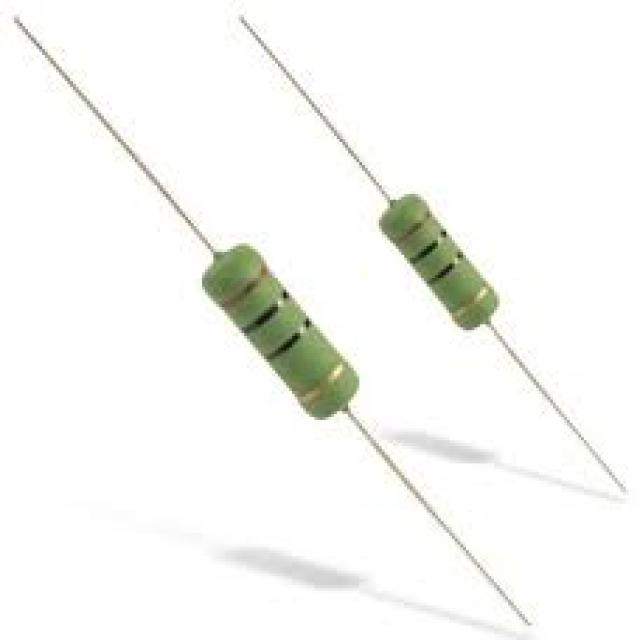Resistor: (205, 243, 356, 417), (385, 194, 494, 327)
black: (242, 293, 294, 341), (270, 319, 317, 361), (424, 252, 465, 292), (410, 232, 449, 266)
brown: (222, 267, 269, 309)
gold: (301, 362, 353, 411), (455, 281, 494, 321)
